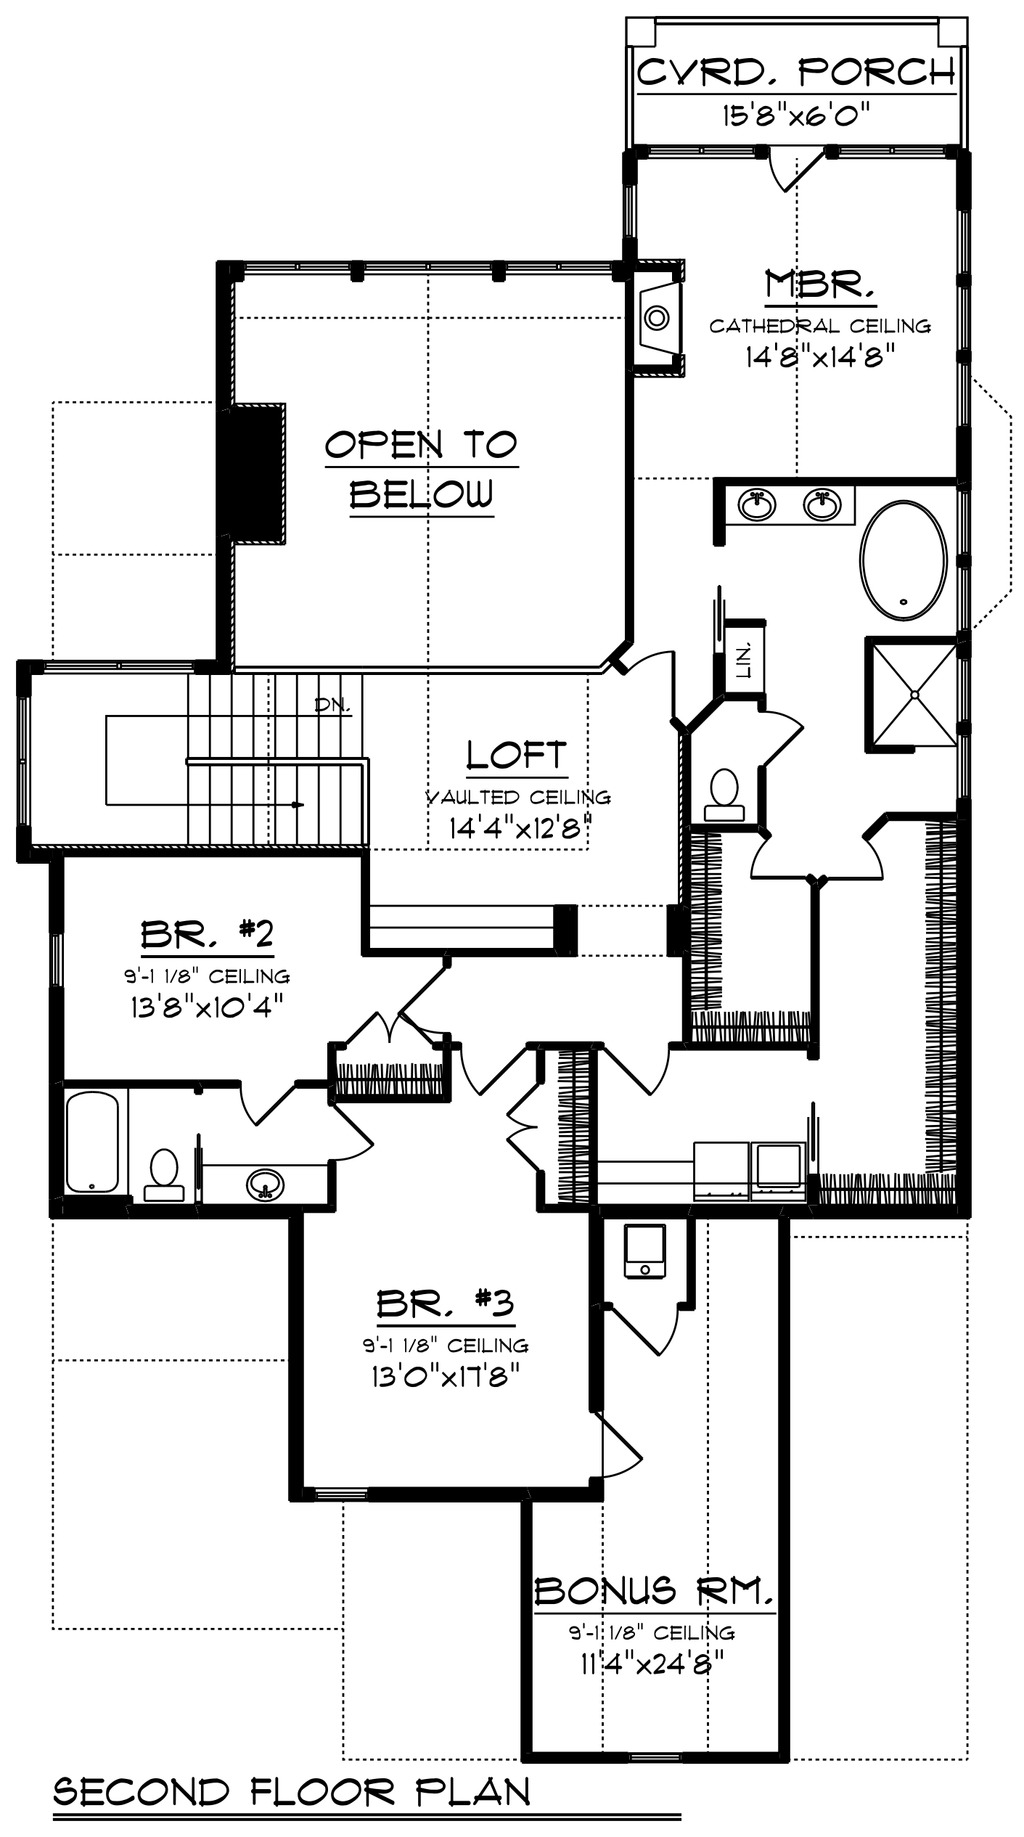door: (578, 1403, 646, 1479), (618, 648, 685, 717), (230, 1069, 306, 1126), (502, 1081, 546, 1179), (618, 1297, 685, 1362), (457, 1038, 522, 1101), (344, 1012, 428, 1060), (742, 838, 806, 895), (599, 1044, 673, 1091), (330, 1099, 373, 1179), (823, 830, 883, 885), (753, 707, 805, 758)
large_sink: (132, 1130, 189, 1214)
small_sink: (718, 473, 861, 546), (226, 1171, 304, 1210)
stairs: (16, 662, 383, 850)
tub: (863, 493, 953, 624), (61, 1079, 130, 1205)
windows: (246, 256, 607, 277)
